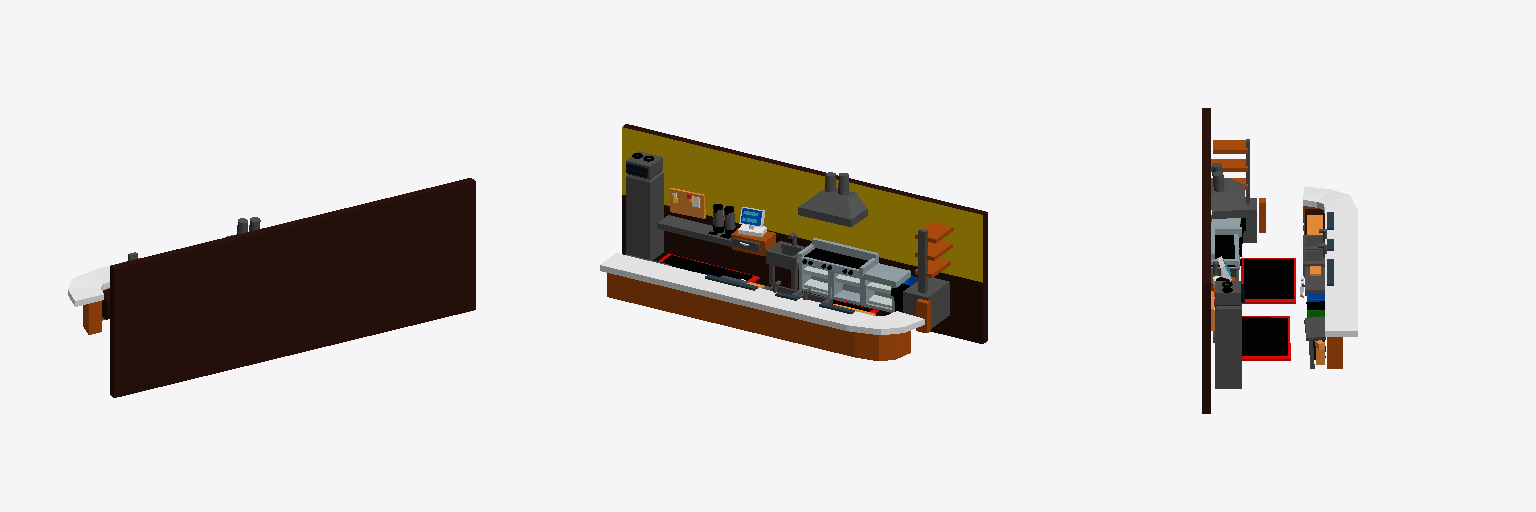
3 renders of one model, left to right at view 1: azimuth 30°, elevation 25°; view 2: azimuth 150°, elevation 25°; view 3: azimuth 270°, elevation 25°, orthographic.
Visible parts, largest first — view 1: group[number redacted], group[number redacted], group[number redacted]; view 2: group[number redacted], group[number redacted], group[number redacted], group[number redacted], group[number redacted], group[number redacted], group[number redacted], group[number redacted], group[number redacted], group[number redacted], group[number redacted], group[number redacted] (+4 smaller); view 3: group[number redacted], group[number redacted], group[number redacted], group[number redacted], group[number redacted], group[number redacted], group[number redacted].
Part boxes in pixels (left/top/right/bottom): group[number redacted]: left=110, top=178, right=475, bottom=397; group[number redacted]: left=68, top=212, right=327, bottom=306; group[number redacted]: left=83, top=288, right=109, bottom=334; group[number redacted]: left=622, top=124, right=987, bottom=343; group[number redacted]: left=607, top=273, right=910, bottom=360; group[number redacted]: left=600, top=253, right=924, bottom=334; group[number redacted]: left=626, top=151, right=663, bottom=259; group[number redacted]: left=798, top=188, right=867, bottom=226; group[number redacted]: left=903, top=278, right=949, bottom=328; group[number redacted]: left=657, top=215, right=731, bottom=246; group[number redacted]: left=658, top=253, right=759, bottom=282; group[number redacted]: left=766, top=241, right=805, bottom=270; group[number redacted]: left=862, top=263, right=910, bottom=287; group[number redacted]: left=670, top=188, right=705, bottom=218; group[number redacted]: left=831, top=271, right=862, bottom=305; group[number redacted]: left=1303, top=186, right=1357, bottom=336; group[number redacted]: left=1215, top=281, right=1241, bottom=388; group[number redacted]: left=1202, top=108, right=1210, bottom=413; group[number redacted]: left=1241, top=258, right=1295, bottom=303; group[number redacted]: left=1242, top=316, right=1290, bottom=360; group[number redacted]: left=1211, top=178, right=1246, bottom=218; group[number redacted]: left=1303, top=206, right=1342, bottom=368.
Size of the model in its own units: 1.9 by 0.7003 by 0.71.